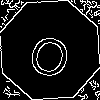O: (25, 25, 77, 81)
